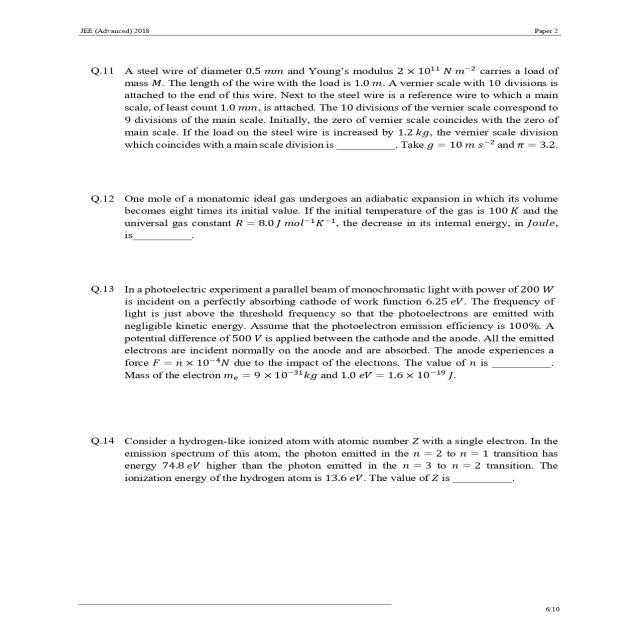Question_Answer_Block: (55, 41, 596, 177), (55, 268, 595, 400), (55, 397, 596, 526), (55, 175, 598, 271)
Question_Block: (55, 41, 596, 177), (55, 268, 593, 400), (55, 397, 595, 526), (55, 175, 596, 271)
Question_Paper_Area: (55, 41, 596, 566)
